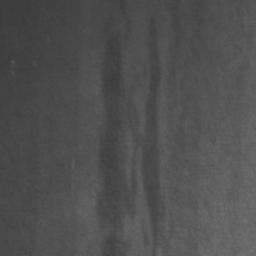Inclusion: (99, 36, 136, 256), (141, 20, 161, 225)
